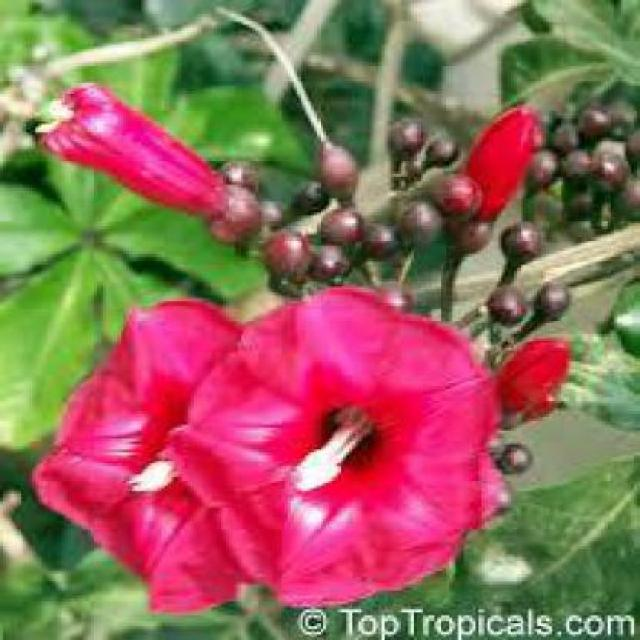flower: (173, 282, 505, 602), (38, 297, 302, 603)
